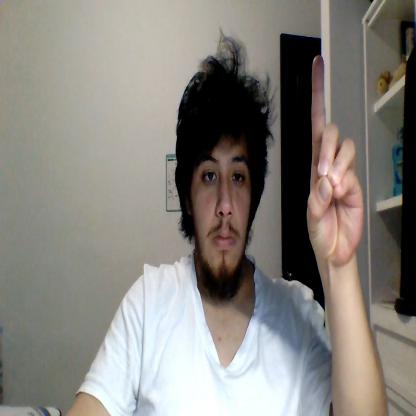D: (306, 54, 364, 264)
